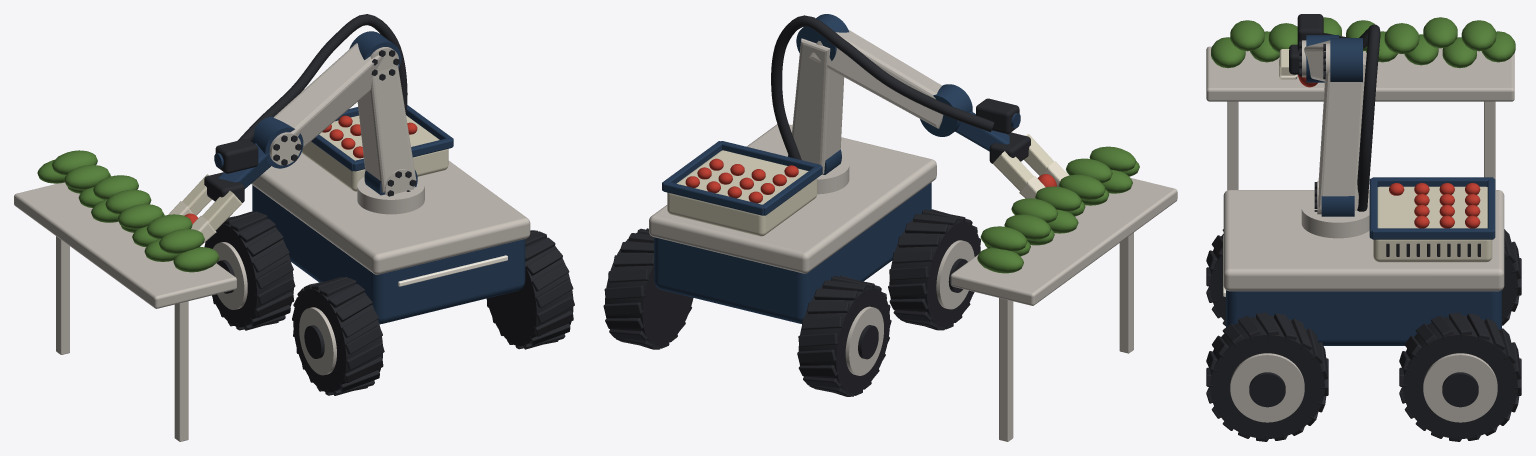
Rendered from robots-40.glb.
The picture shows the model from 3 angles, left to right: view 1: azimuth 30°, elevation 25°; view 2: azimuth 150°, elevation 25°; view 3: azimuth 270°, elevation 25°; orthographic projection. The views are drawn at different scales.
Visible parts, largest first — view 1: chassis, wheels, bench, arm, stems, axes, basket, loom, gripper, camera, produce; view 2: chassis, wheels, bench, arm, basket, stems, loom, axes, gripper, produce, camera, pads; view 3: wheels, chassis, bench, basket, stems, arm, axes, loom, produce, camera, gripper.
Boxes of the visible parts, x1=… form: chassis: x1=251, y1=152, x2=530, y2=324; wheels: x1=204, y1=211, x2=574, y2=395; bench: x1=14, y1=182, x2=236, y2=441; arm: x1=218, y1=43, x2=416, y2=192; stems: x1=37, y1=150, x2=219, y2=272; axes: x1=251, y1=31, x2=424, y2=214; basket: x1=302, y1=105, x2=453, y2=191; loom: x1=237, y1=14, x2=407, y2=141; gripper: x1=182, y1=172, x2=244, y2=230; camera: x1=214, y1=139, x2=258, y2=173; produce: x1=184, y1=115, x2=417, y2=223; chassis: x1=649, y1=124, x2=936, y2=323; wheels: x1=603, y1=209, x2=980, y2=396; bench: x1=950, y1=178, x2=1177, y2=441; arm: x1=792, y1=29, x2=1009, y2=173; basket: x1=662, y1=141, x2=822, y2=236; stems: x1=977, y1=146, x2=1139, y2=273; loom: x1=771, y1=15, x2=994, y2=159; axes: x1=787, y1=14, x2=972, y2=194; gripper: x1=989, y1=132, x2=1054, y2=191; produce: x1=685, y1=158, x2=1056, y2=203; camera: x1=976, y1=98, x2=1020, y2=133; pads: x1=1019, y1=161, x2=1068, y2=198; wheels: x1=1206, y1=229, x2=1521, y2=441; chassis: x1=1223, y1=190, x2=1504, y2=345; bench: x1=1206, y1=46, x2=1514, y2=190; basket: x1=1369, y1=177, x2=1495, y2=262; stems: x1=1211, y1=17, x2=1515, y2=68; arm: x1=1304, y1=40, x2=1366, y2=210; axes: x1=1299, y1=35, x2=1369, y2=238; loom: x1=1323, y1=24, x2=1380, y2=211; produce: x1=1298, y1=74, x2=1480, y2=228; camera: x1=1297, y1=14, x2=1323, y2=51; gripper: x1=1279, y1=44, x2=1299, y2=75.
Bounding box in the file's own units: 3.09 × 2.2 × 1.83.
